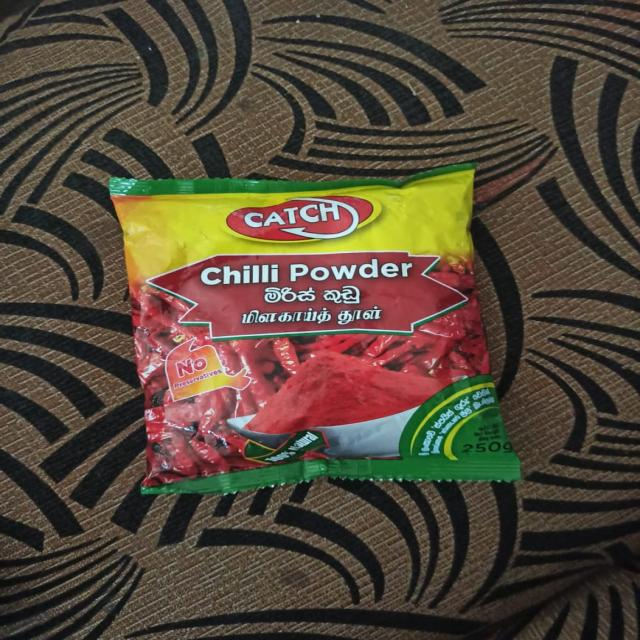Chilli Powder: (91, 164, 533, 493)
